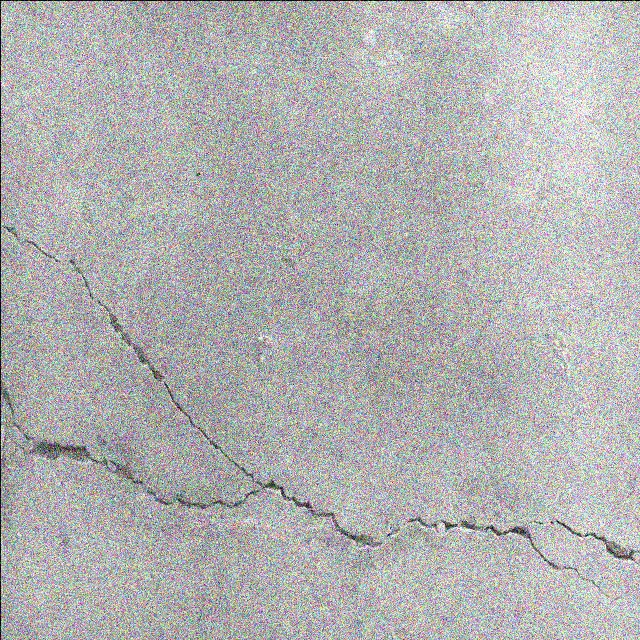SurfaceCrack: (0, 228, 639, 633)
